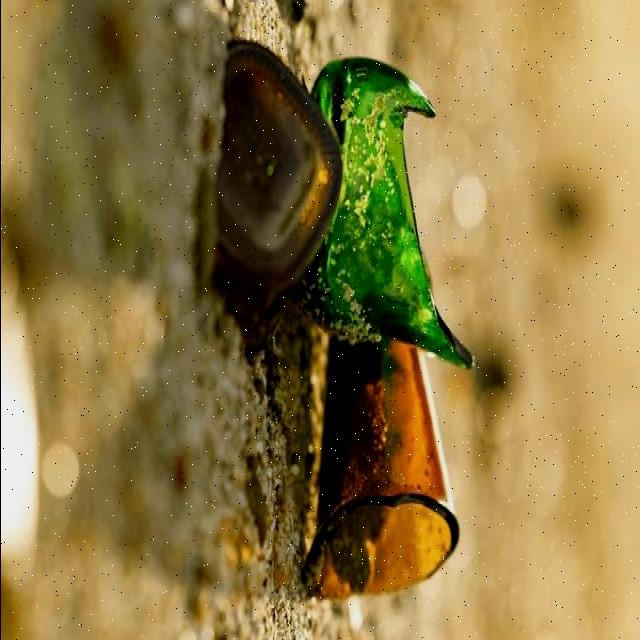glass: (206, 19, 460, 604)
